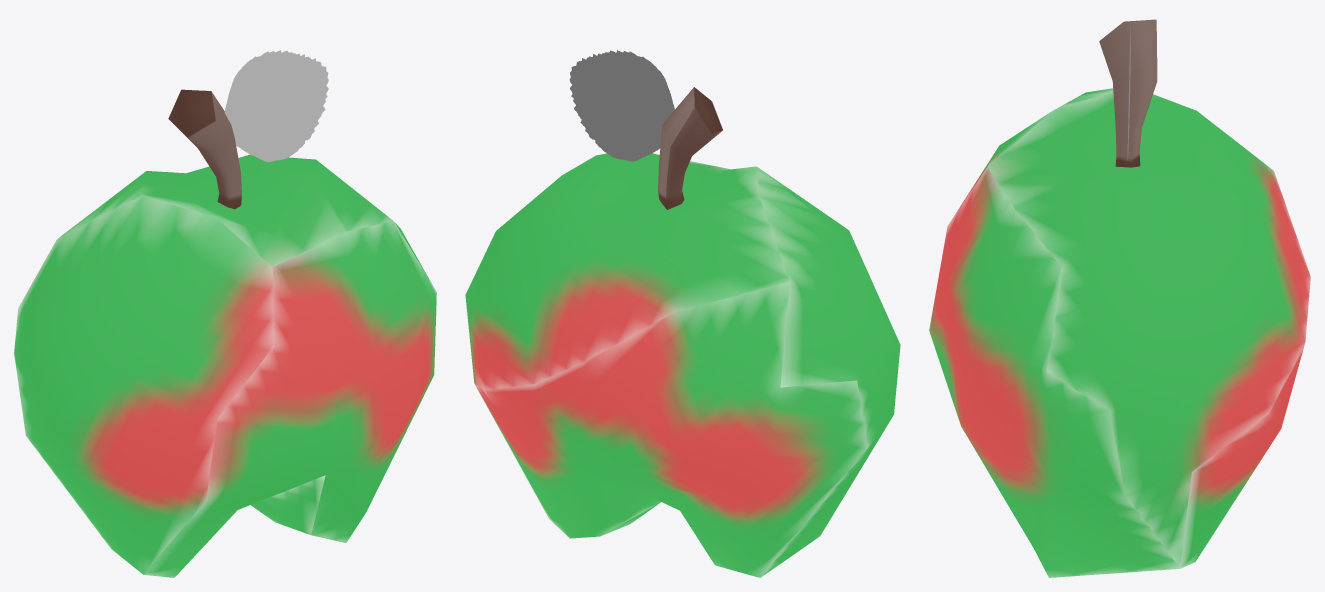
File: Thrapple.fbx
The picture shows the model from 3 angles, left to right: view 1: azimuth 30°, elevation 25°; view 2: azimuth 150°, elevation 25°; view 3: azimuth 270°, elevation 25°; orthographic projection. The views are drawn at different scales.
Visible parts, largest first — view 1: Thrapple; view 2: Thrapple; view 3: Thrapple.
Boxes of the visible parts, x1,y1,x2,y2 form: Thrapple: (14,50,436,577); Thrapple: (465,50,900,577); Thrapple: (929,19,1310,577).
Size of the model in its own units: 1.22 by 1.99 by 1.59.
